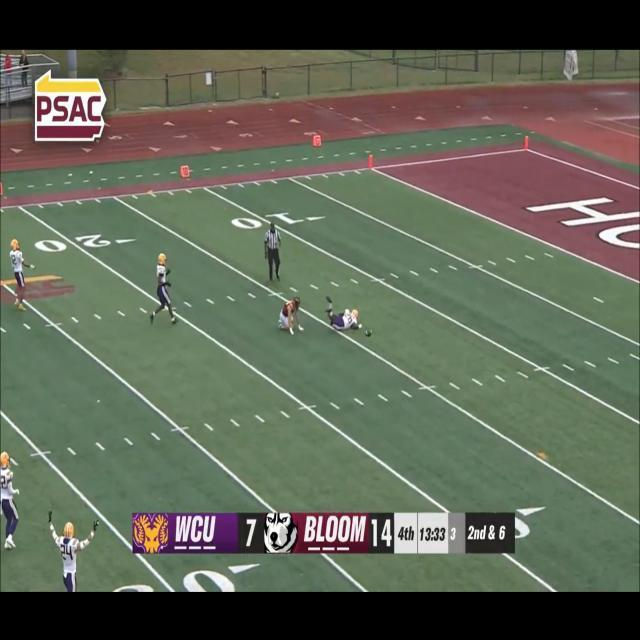football: (362, 326, 376, 340)
